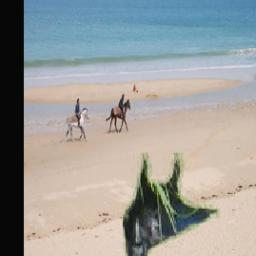Crow: (123, 153, 220, 256)
